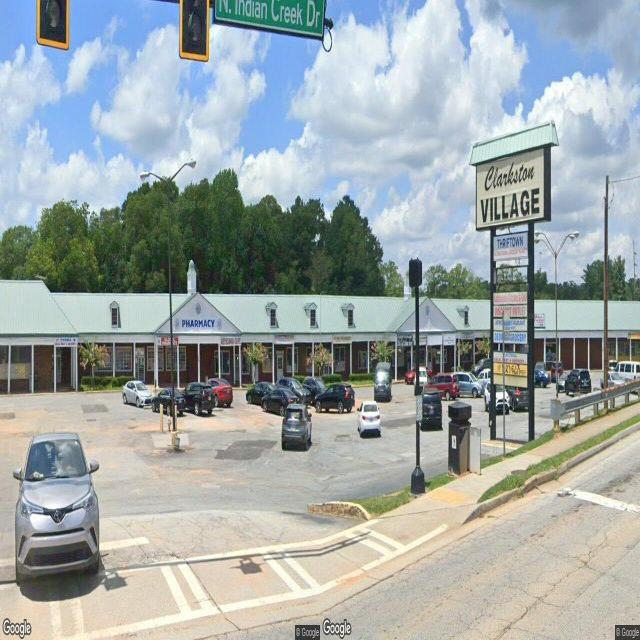trash_can: (448, 401, 472, 476)
